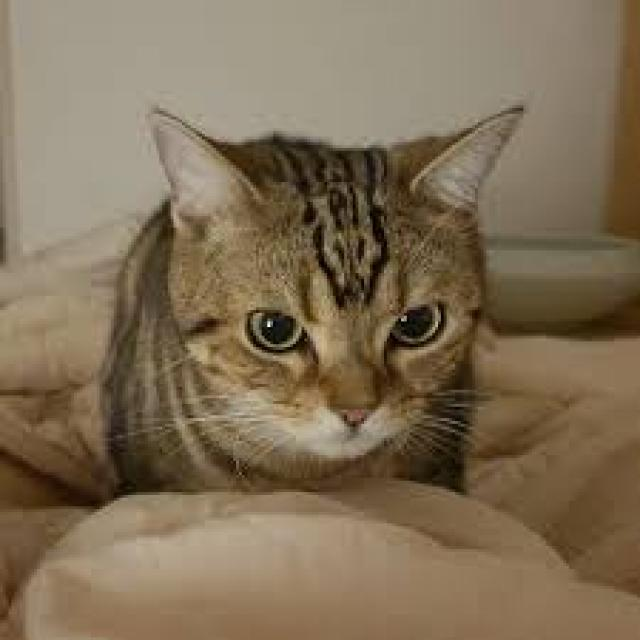cat-face: (133, 73, 586, 495)
